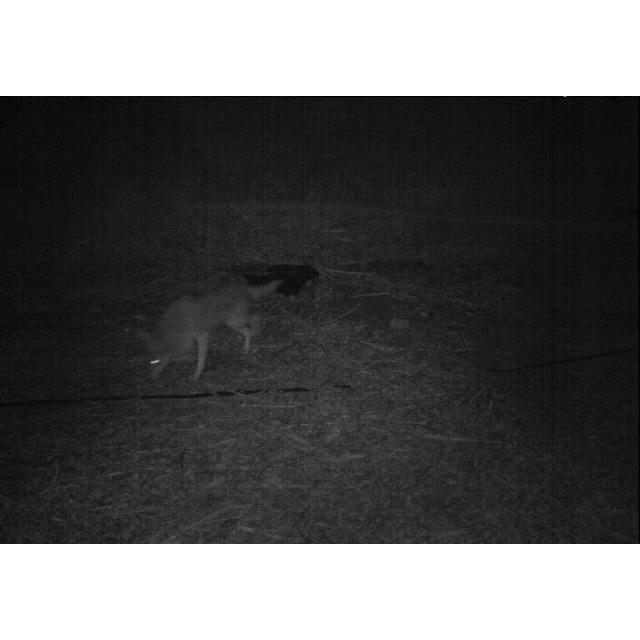animals: (130, 277, 292, 388)
